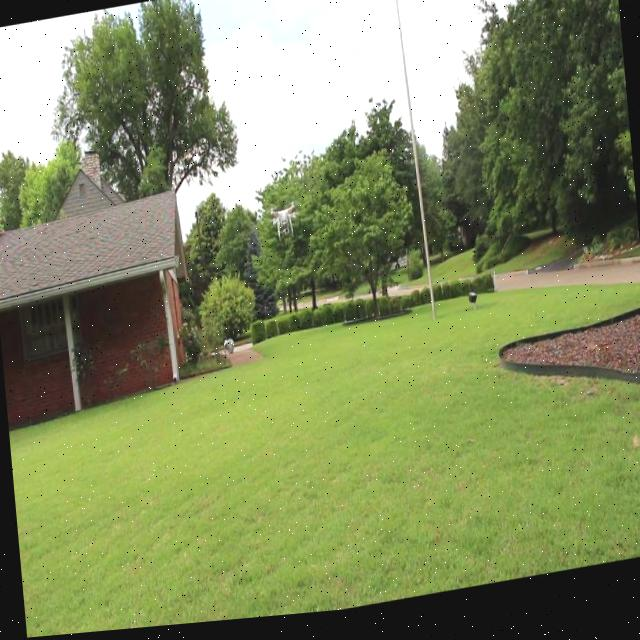drone: (266, 205, 299, 248)
